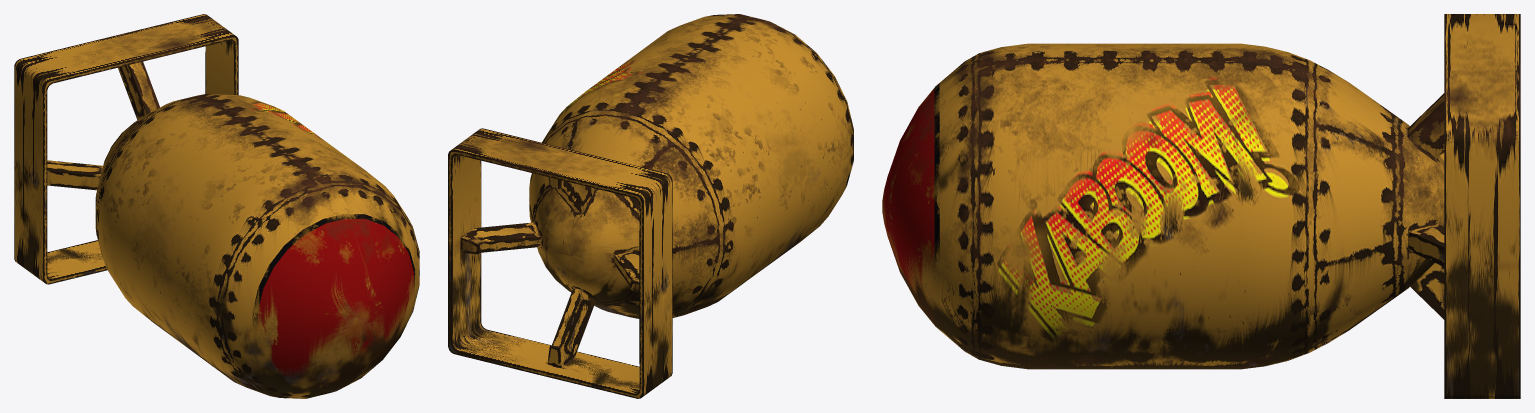
Rendered from nuke.fbx.
The picture shows the model from 3 angles, left to right: view 1: azimuth 30°, elevation 25°; view 2: azimuth 150°, elevation 25°; view 3: azimuth 270°, elevation 25°; orthographic projection. The views are drawn at different scales.
Visible parts, largest first — view 1: nuke; view 2: nuke; view 3: nuke.
Boxes of the visible parts, x1=… form: nuke: x1=14, y1=14, x2=419, y2=398; nuke: x1=448, y1=14, x2=853, y2=398; nuke: x1=882, y1=14, x2=1520, y2=398.
Size of the model in its own units: 7.86 by 7.86 by 15.52.
Materials: 1 (1 with a texture image).
